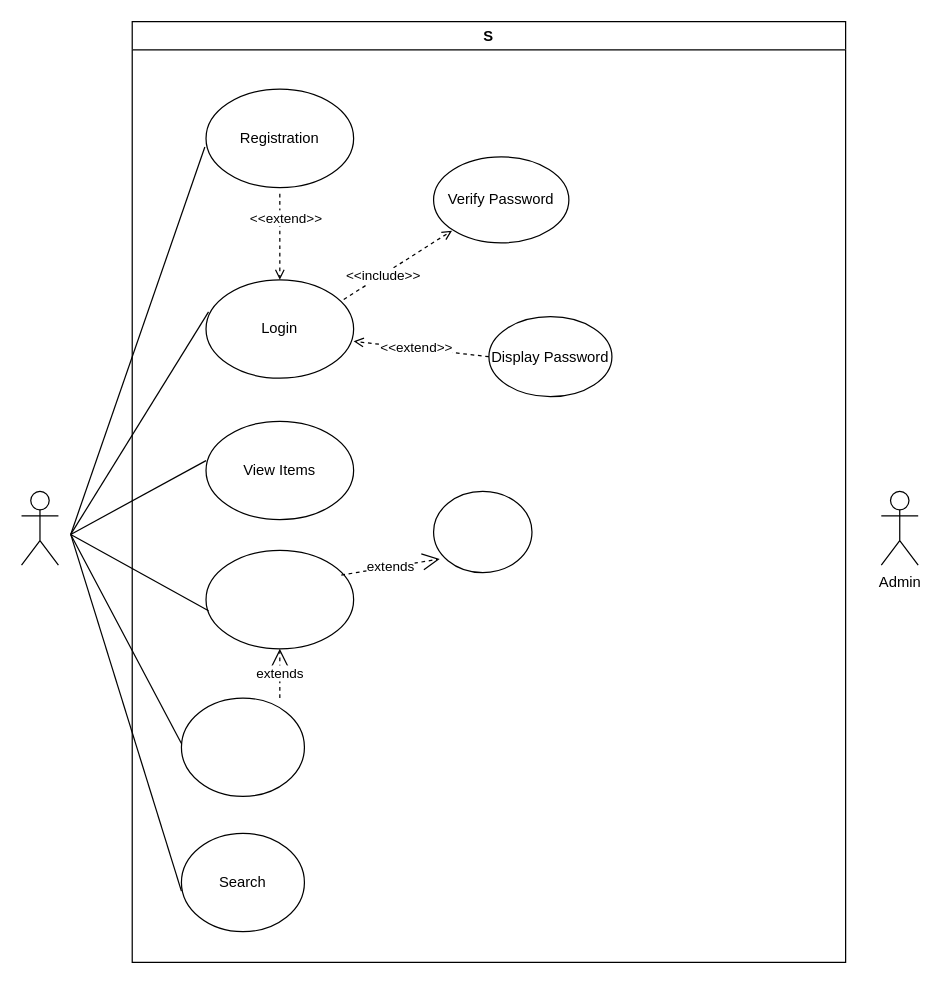
The diagram is 942 pixels wide and 984 high, and some of its shapes have lost their labels. The shapes that lost their labels are listed below. From the top down, each one's centre as x and y in pixels, then its label:
(x=39, y=527): User
(x=482, y=531): checkout
(x=279, y=599): Add to Cart
(x=242, y=746): Add to Favotire
